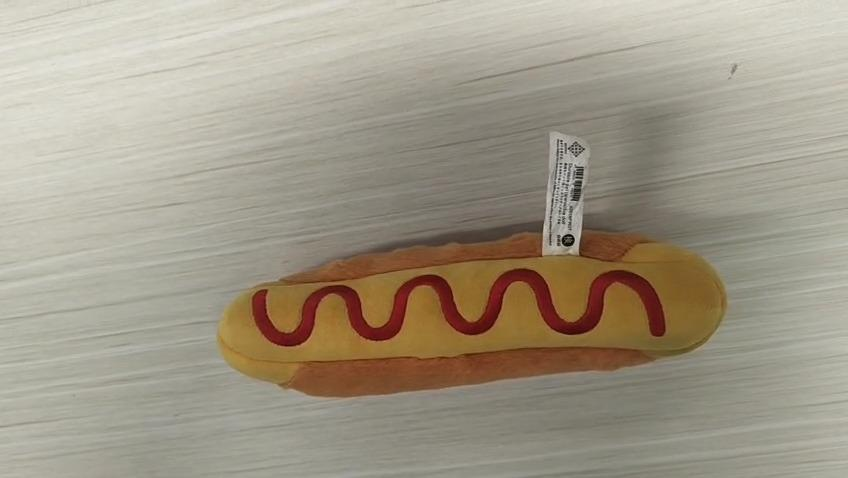hotdog: (216, 230, 727, 398)
